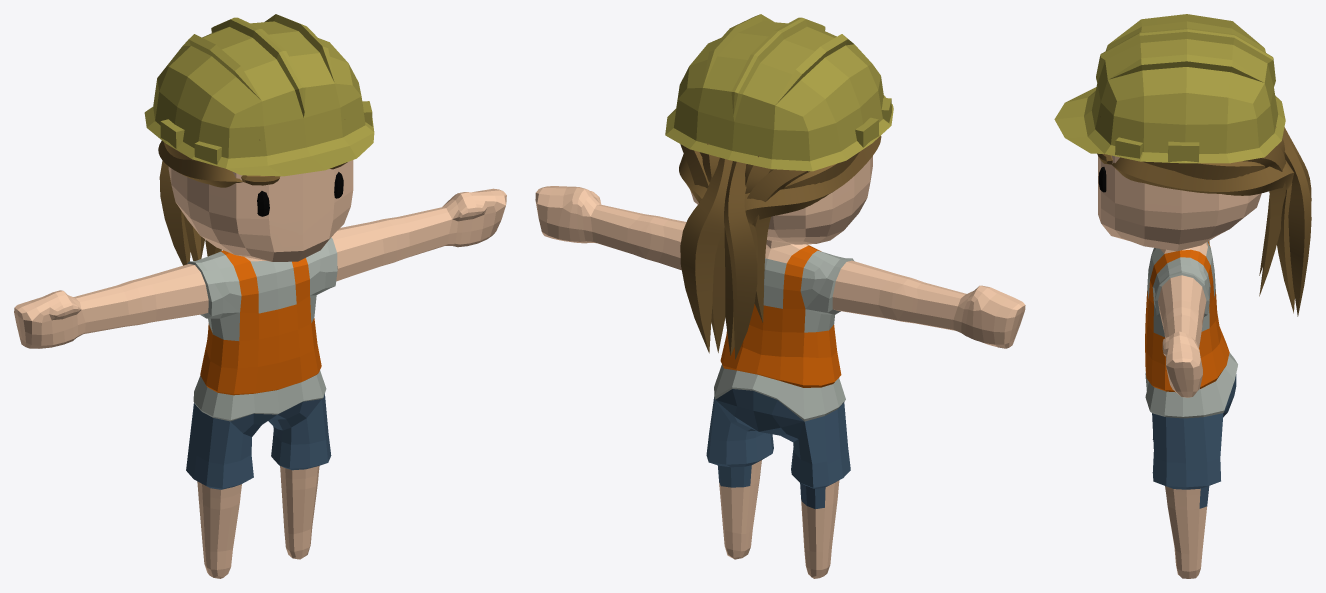
File: FEMALE_WORKER.fbx
3 views of the same model, side by side, from view 1: azimuth 30°, elevation 25°; view 2: azimuth 150°, elevation 25°; view 3: azimuth 270°, elevation 25° (orthographic).
Parts seen in each view (by area): view 1: Body; view 2: Body; view 3: Body.
Part boxes in pixels (box(x1,y1,x2,y2)): Body: box(14, 14, 506, 578); Body: box(535, 14, 1025, 578); Body: box(1054, 14, 1311, 578).
Size of the model in its own units: 324 by 343 by 151.
